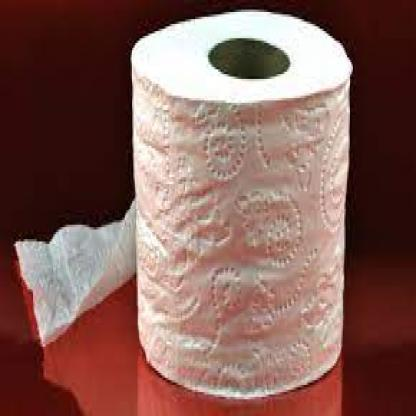tissue: (128, 16, 350, 394)
